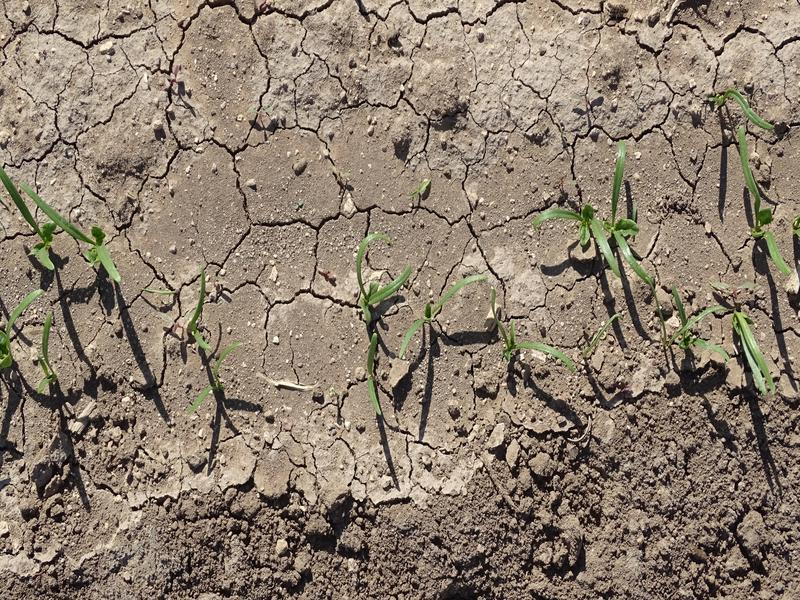Espinaca: (540, 147, 656, 284), (673, 289, 778, 399), (19, 182, 123, 283), (738, 128, 790, 273), (396, 275, 490, 355), (352, 230, 408, 313), (497, 326, 571, 370), (714, 92, 780, 130), (1, 291, 42, 348), (38, 306, 61, 382)
